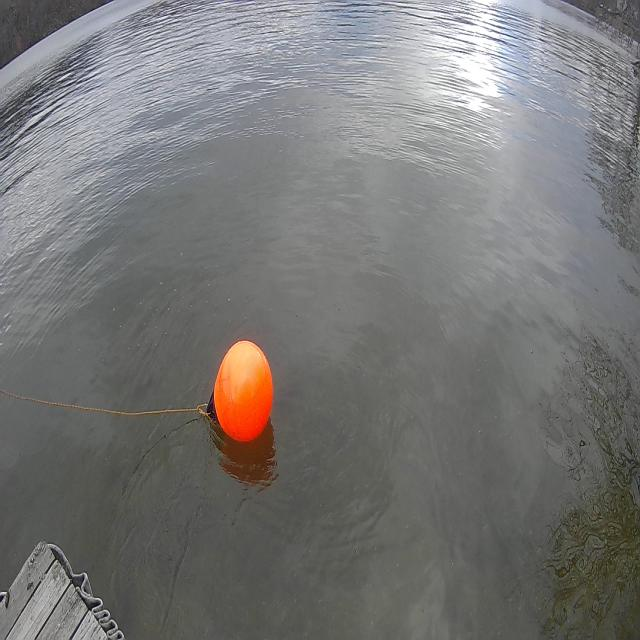Buoy: (200, 328, 285, 455)
